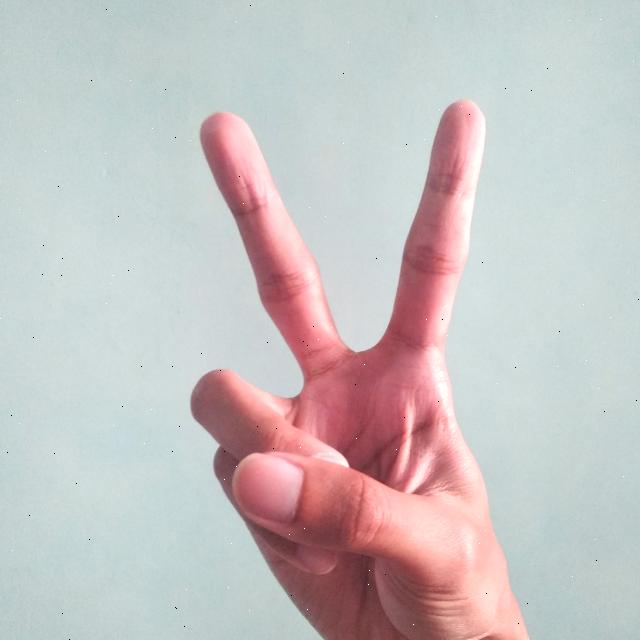V: (167, 89, 529, 640)
